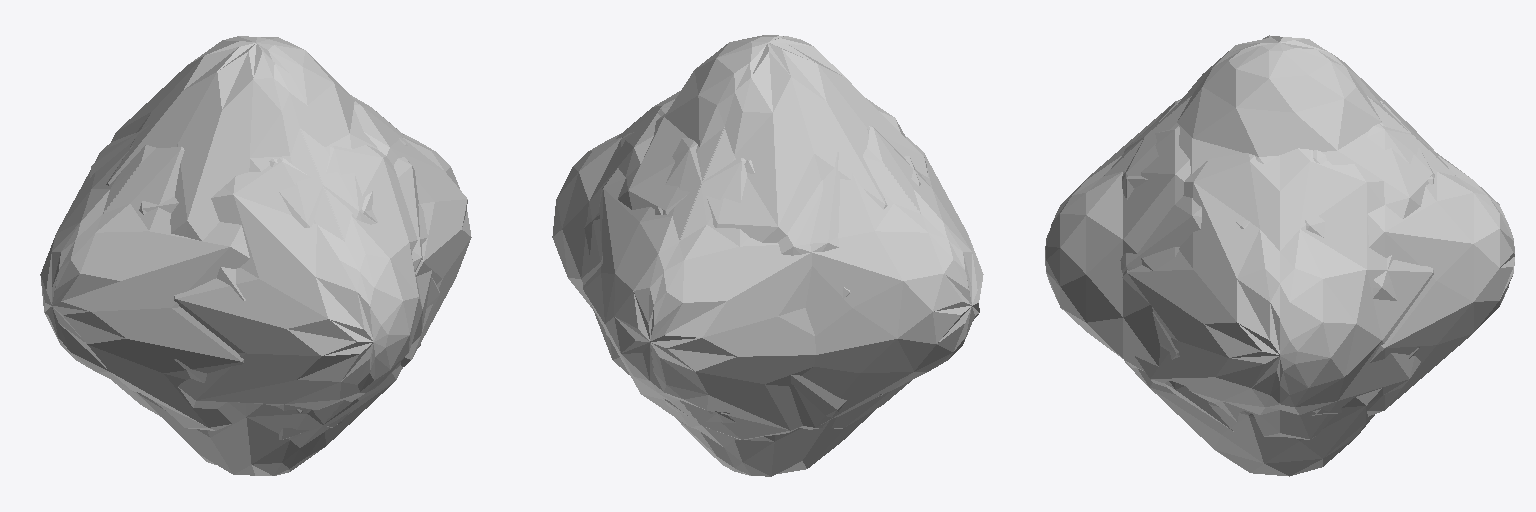
The model's file is mine.obj.
3 renders of one model, left to right at view 1: azimuth 30°, elevation 25°; view 2: azimuth 150°, elevation 25°; view 3: azimuth 270°, elevation 25°, orthographic.
Visible parts, largest first — view 1: Sphere.001_Sphere.009; view 2: Sphere.001_Sphere.009; view 3: Sphere.001_Sphere.009.
Boxes of the visible parts, x1=… form: Sphere.001_Sphere.009: x1=40, y1=36, x2=471, y2=475; Sphere.001_Sphere.009: x1=552, y1=35, x2=983, y2=476; Sphere.001_Sphere.009: x1=1045, y1=35, x2=1514, y2=476.
Size of the model in its own units: 5 by 5 by 5.